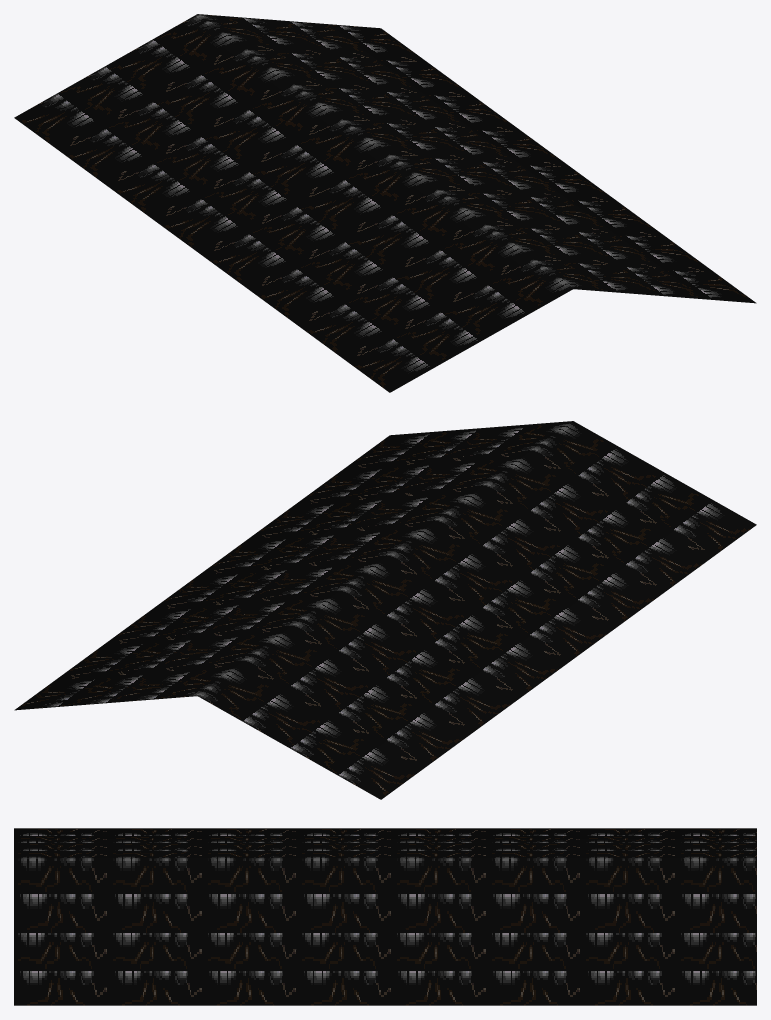
Rendered from 5024musi34.gltf.
3 renders of one model, top to bottom at view 1: azimuth 30°, elevation 25°; view 2: azimuth 150°, elevation 25°; view 3: azimuth 270°, elevation 25°, orthographic.
Visible parts, largest first — view 1: 5024musi34; view 2: 5024musi34; view 3: 5024musi34.
Part boxes in pixels (x1,y1,x2,y2): 5024musi34: (14,14,756,392); 5024musi34: (14,421,756,799); 5024musi34: (14,828,756,1005).
Size of the model in its own units: 0.0938 by 0.0144 by 0.1663.
Materials: 1 (1 with a texture image).
